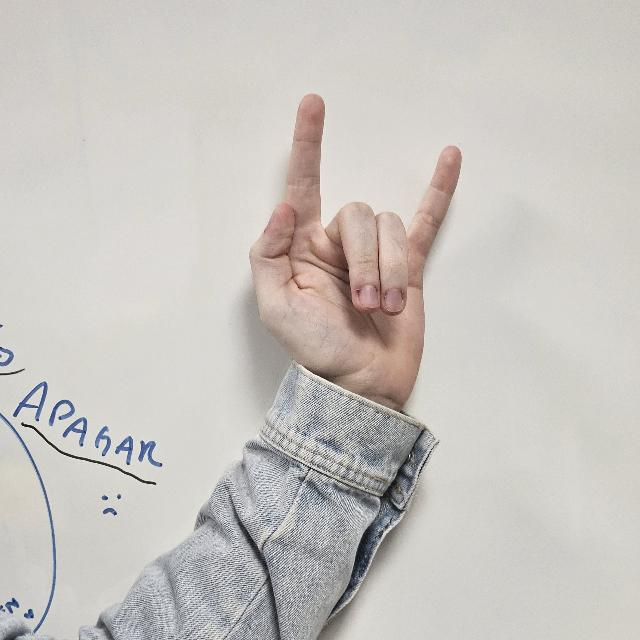L: (252, 90, 462, 408)
